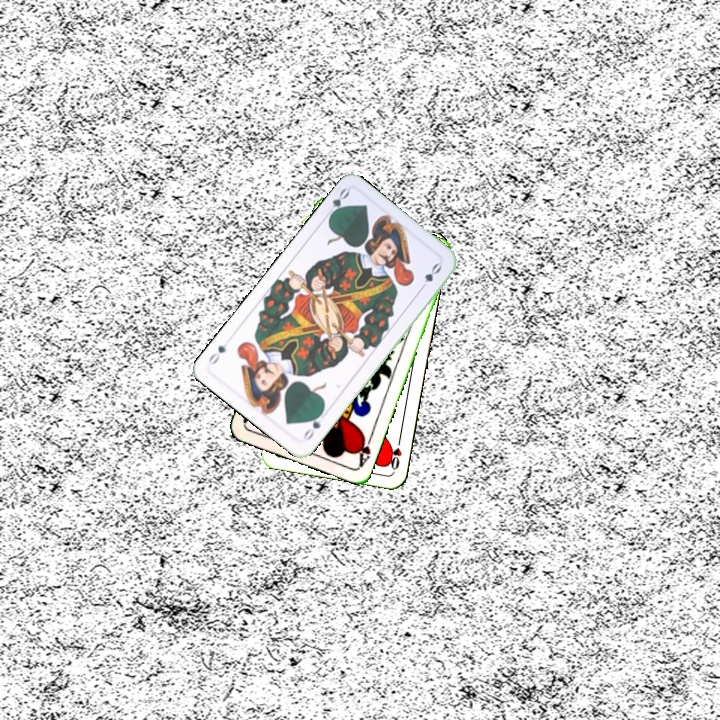GO: (321, 184, 352, 222), (299, 407, 326, 443)
HA: (352, 429, 376, 469)
HO: (386, 433, 404, 473)
